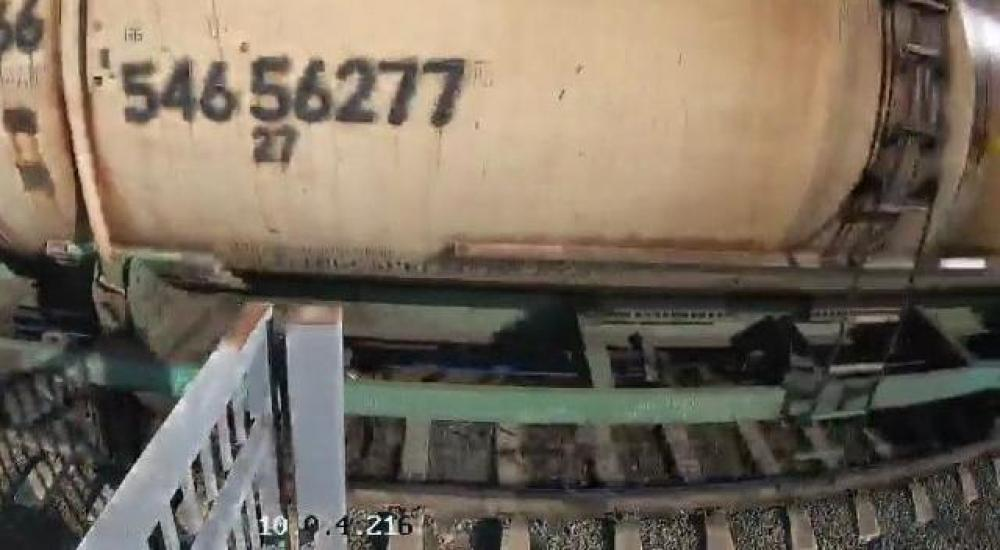Wagon-number: (114, 54, 472, 126)
